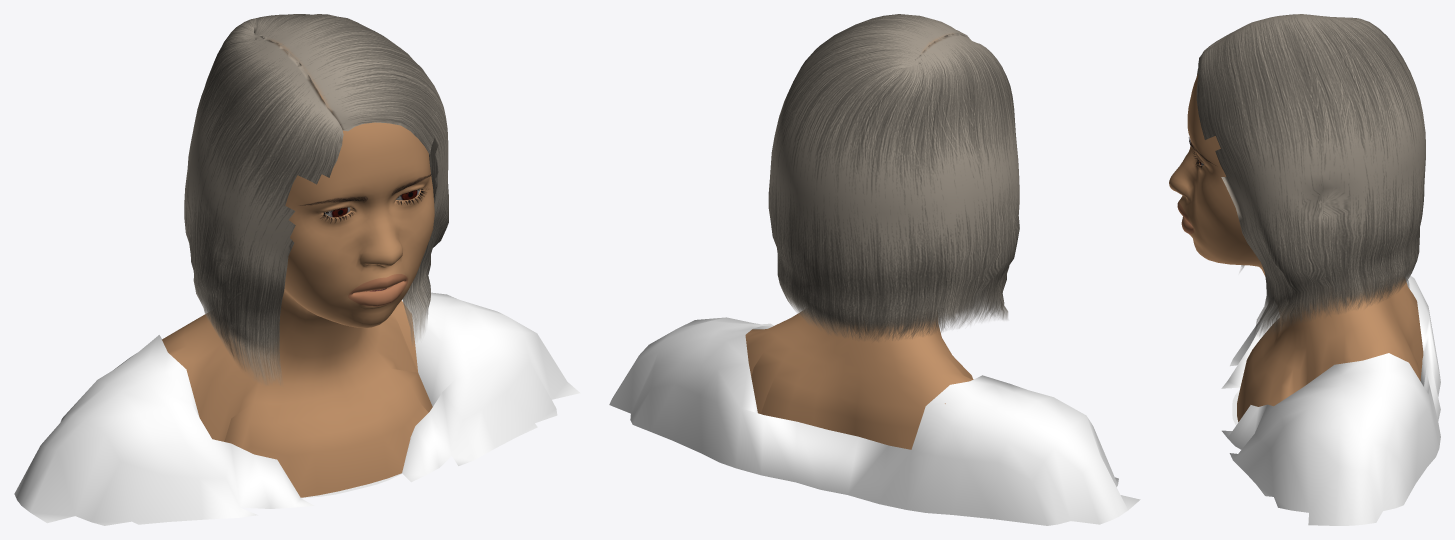
Rendered from woman-07.glb.
3 renders of one model, left to right at view 1: azimuth 30°, elevation 25°; view 2: azimuth 150°, elevation 25°; view 3: azimuth 270°, elevation 25°, orthographic. The views are drawn at different scales.
Visible parts, largest first — view 1: mpfb-face, mpfb-face.bob_blunt, mpfb-face.joepal_crude_t-shirt_female; view 2: mpfb-face.bob_blunt, mpfb-face.joepal_crude_t-shirt_female, mpfb-face; view 3: mpfb-face.bob_blunt, mpfb-face.joepal_crude_t-shirt_female, mpfb-face.
Boxes of the visible parts, bbox=[...] form: mpfb-face: bbox=[162, 40, 434, 497]; mpfb-face.bob_blunt: bbox=[184, 14, 448, 384]; mpfb-face.joepal_crude_t-shirt_female: bbox=[14, 292, 580, 525]; mpfb-face.bob_blunt: bbox=[768, 14, 1019, 340]; mpfb-face.joepal_crude_t-shirt_female: bbox=[609, 317, 1140, 525]; mpfb-face: bbox=[745, 35, 973, 449]; mpfb-face.bob_blunt: bbox=[1196, 14, 1425, 336]; mpfb-face.joepal_crude_t-shirt_female: bbox=[1221, 275, 1440, 525]; mpfb-face: bbox=[1169, 74, 1423, 421].
Size of the model in its own units: 0.4306 by 0.3324 by 0.2127.
9 materials, 7 textured.
